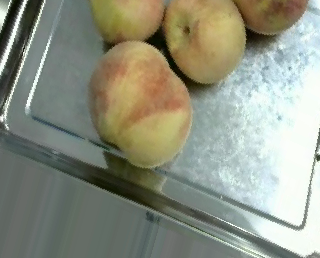Peach: (89, 38, 192, 168), (163, 0, 246, 82)
